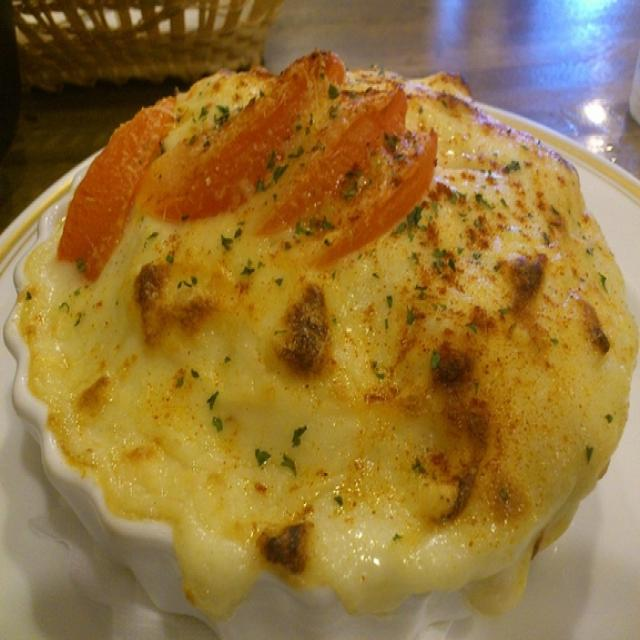米饭主食: (31, 37, 626, 588)
